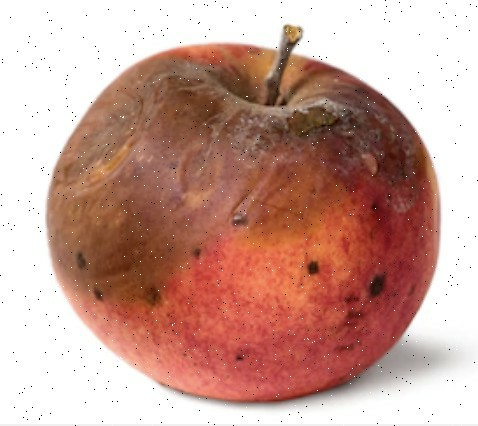rotten_apple: (48, 44, 440, 403)
